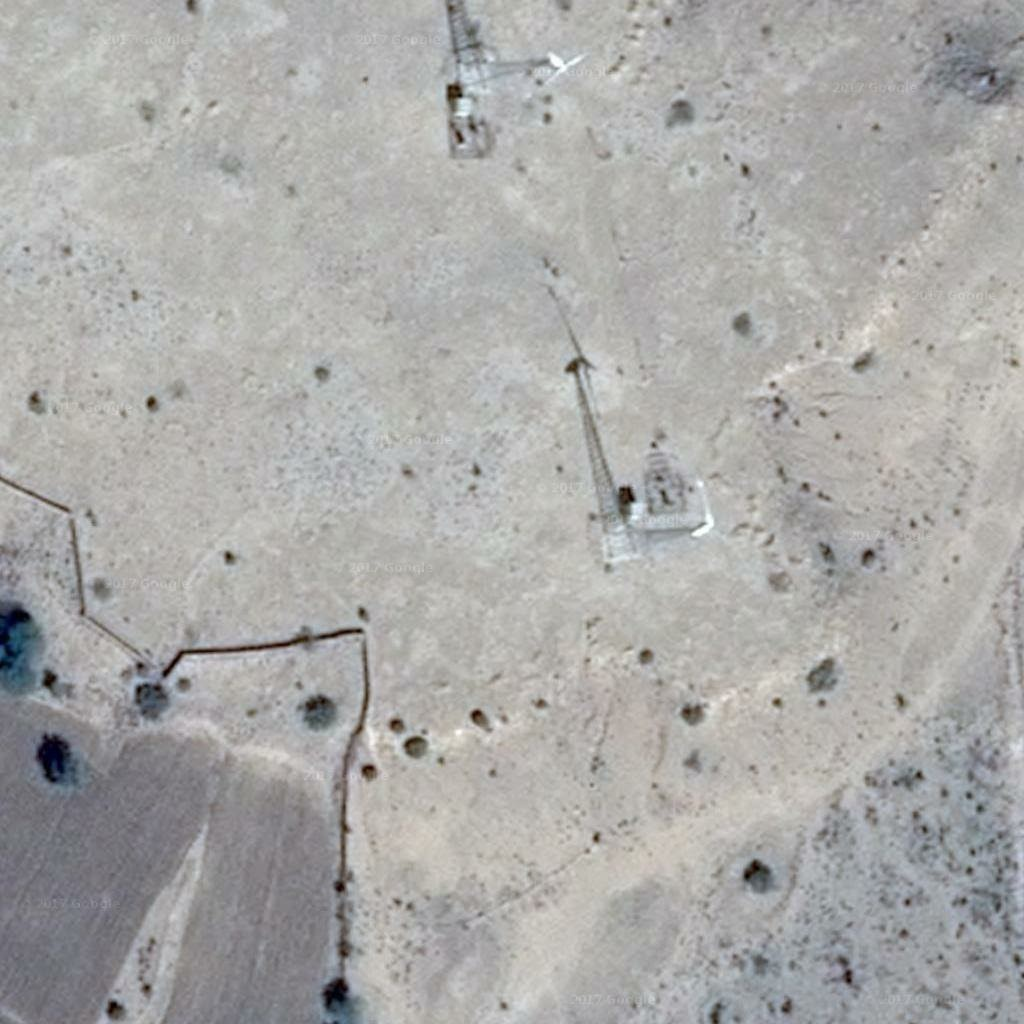Windmill: (530, 286, 651, 549)
